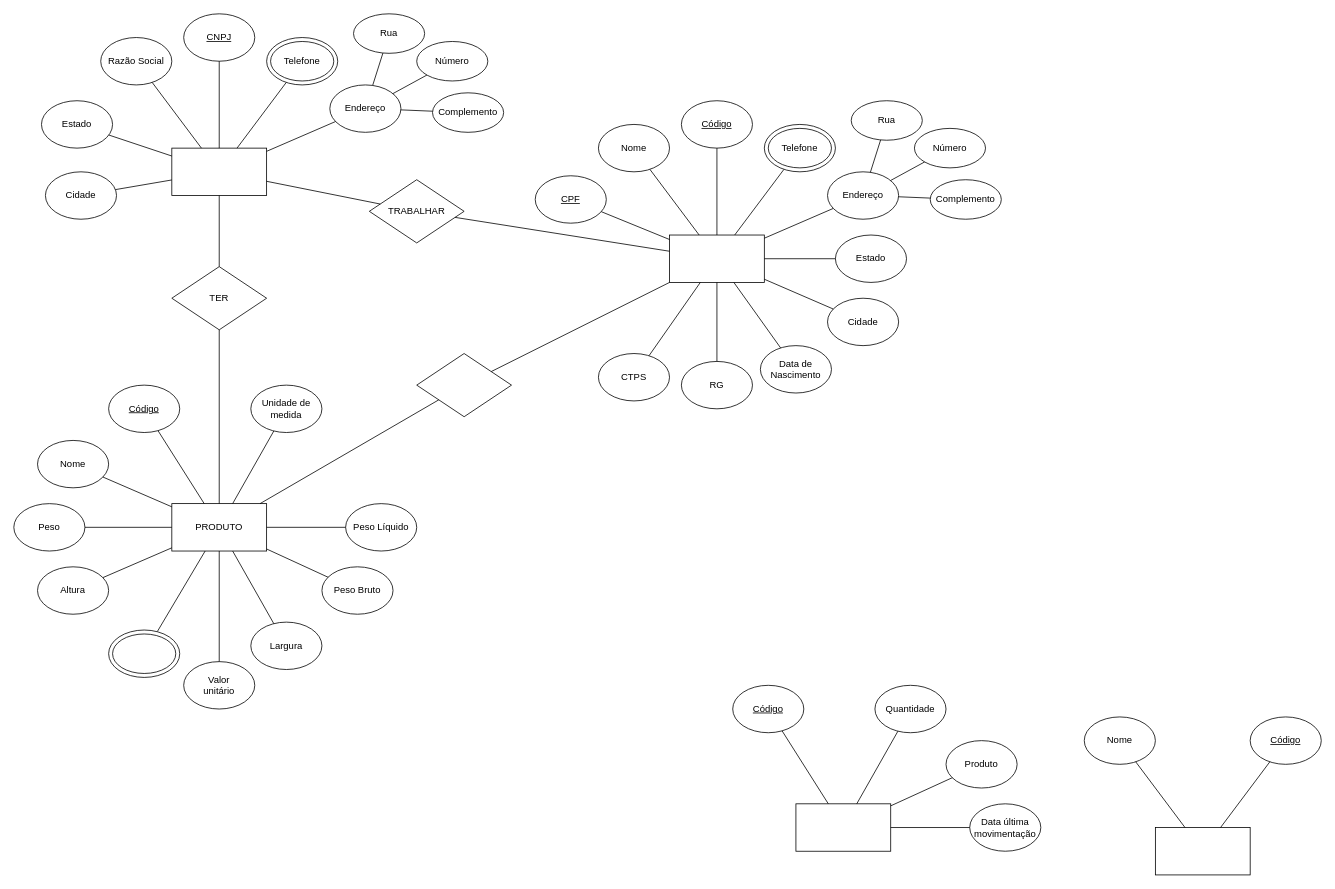
Image size: 1335x889. Some labels were removed from this diagram. The box of each missing label's shape, as (x1, y1, x2, y2) in pixels:
ATENDENTE: (669, 234, 764, 282)
CAIXA: (1155, 827, 1250, 875)
Cor: (112, 633, 176, 673)
EMPRESA: (171, 147, 267, 196)
ESTOQE: (795, 803, 891, 851)
VENDER: (416, 353, 512, 417)
